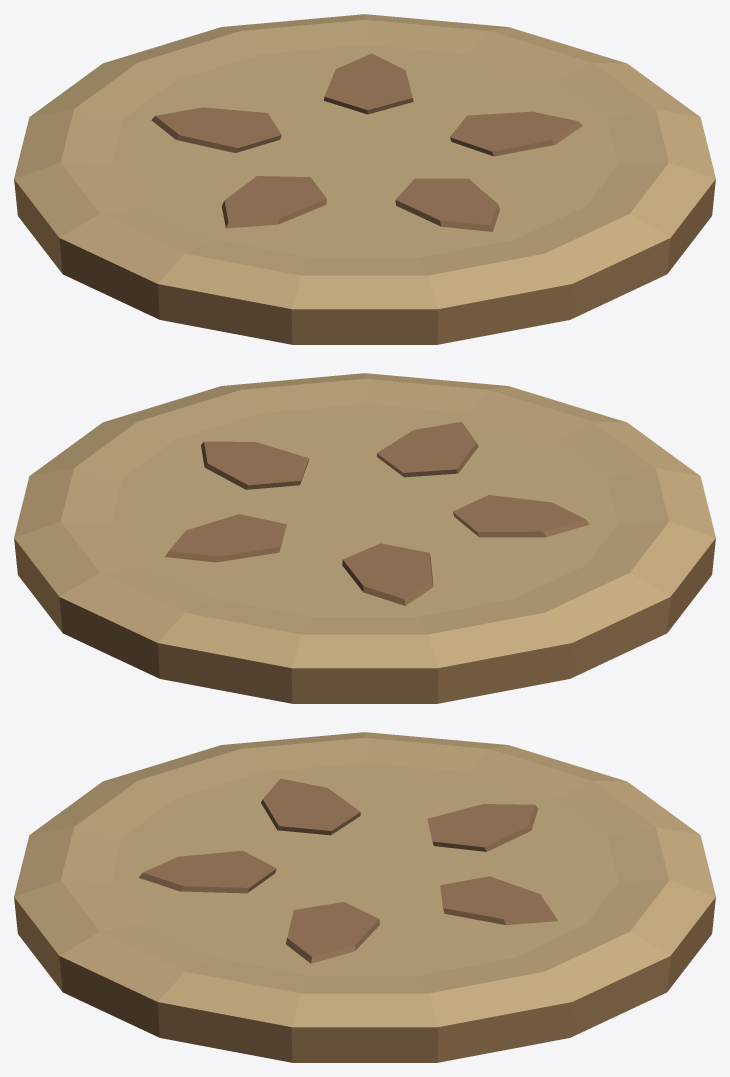
File: duenenmeer_04.glb
3 views of the same model, one above another, from view 1: azimuth 30°, elevation 25°; view 2: azimuth 150°, elevation 25°; view 3: azimuth 270°, elevation 25° (orthographic).
Parts seen in each view (by area): view 1: duenenmeer_04; view 2: duenenmeer_04; view 3: duenenmeer_04.
Part boxes in pixels (bbox=[...]): duenenmeer_04: bbox=[14, 14, 715, 344]; duenenmeer_04: bbox=[14, 373, 715, 703]; duenenmeer_04: bbox=[14, 732, 715, 1062].
Bounding box in the file's own units: 1.99 × 0.2279 × 2.
